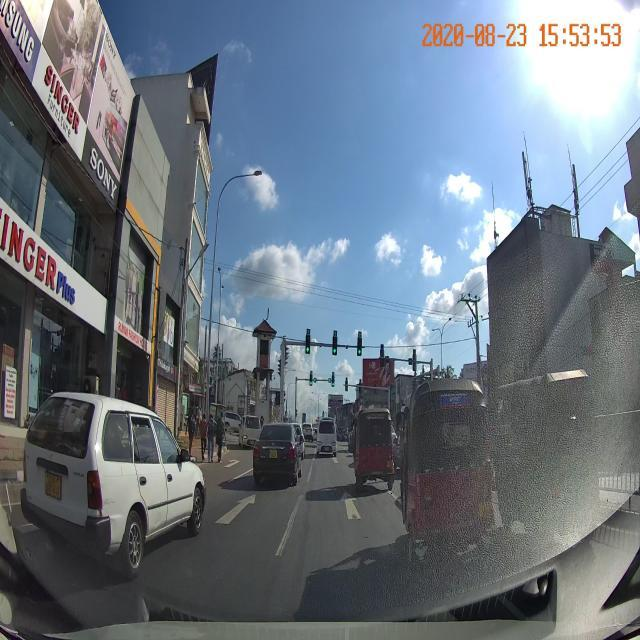forward: (279, 483, 404, 525)
